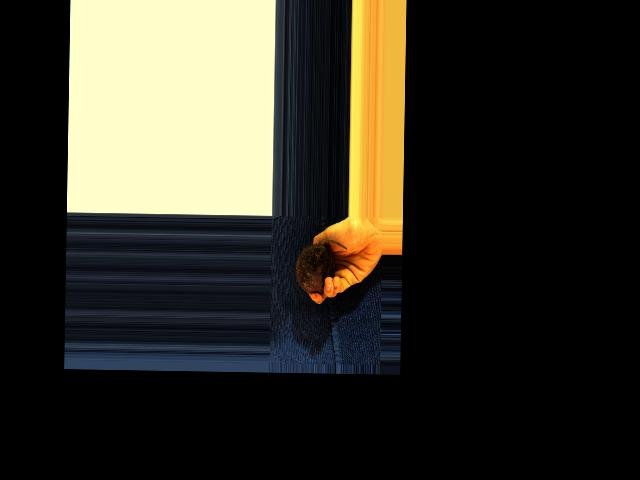beet: (296, 238, 348, 294)
